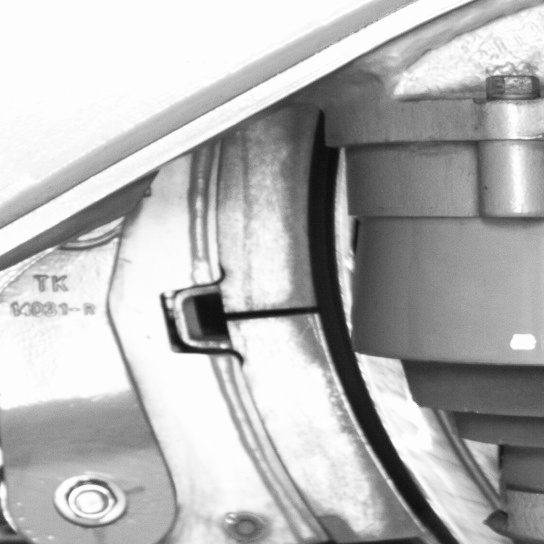KnifeSwitch: (227, 139, 461, 543)
